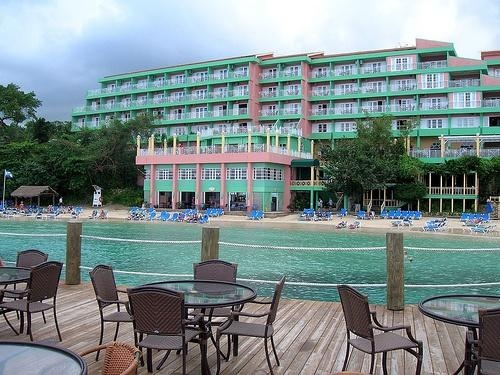chair: (339, 284, 425, 375), (128, 286, 209, 375), (217, 274, 288, 375), (1, 262, 66, 343), (85, 264, 141, 352), (463, 309, 500, 375), (80, 345, 141, 375), (193, 259, 236, 282), (14, 251, 51, 270)
